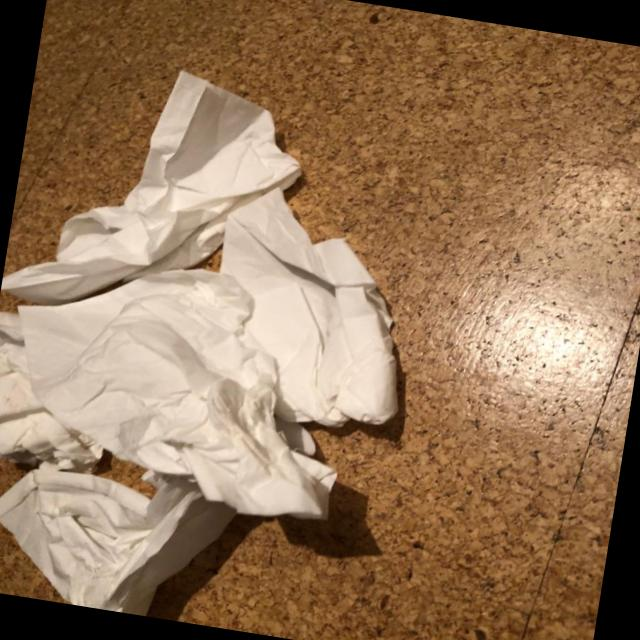organic waste: (0, 236, 382, 536), (0, 44, 324, 343), (195, 177, 438, 447), (0, 446, 250, 629), (0, 308, 123, 476)
